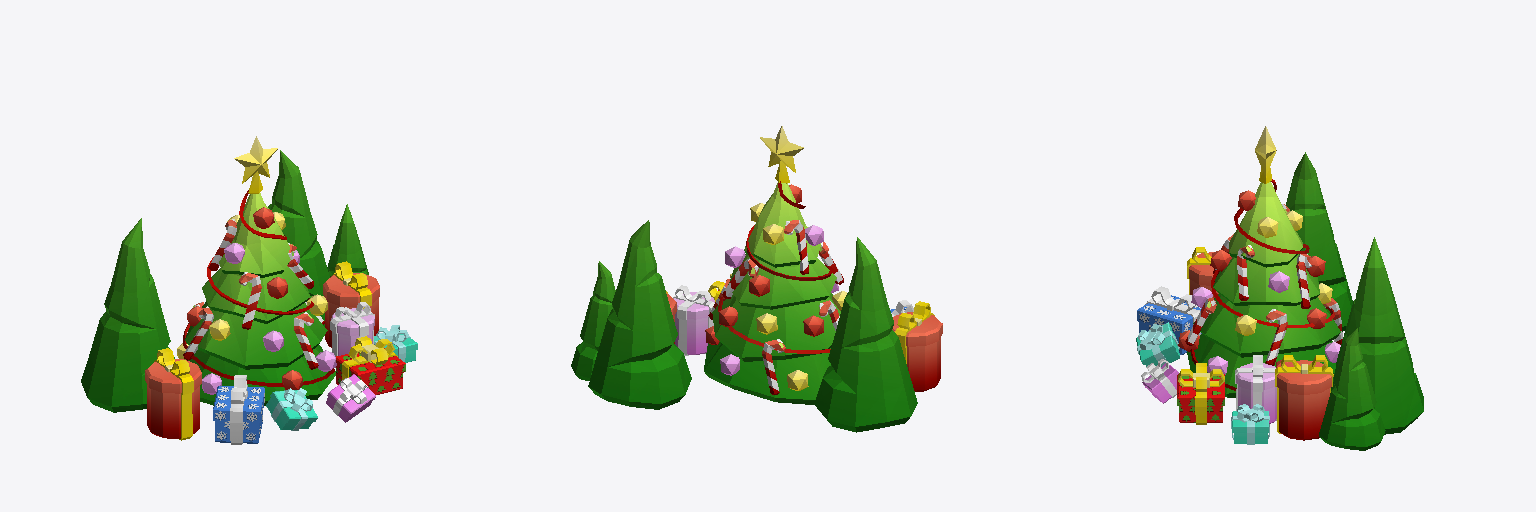
3 views of the same model, side by side, from view 1: azimuth 30°, elevation 25°; view 2: azimuth 150°, elevation 25°; view 3: azimuth 270°, elevation 25° (orthographic).
Parts seen in each view (by area): view 1: Christmas_Tree, Christmas_Tree_060, Christmas_Present_01, Christmas_Tree_2, Christmas_Present_009, Christmas_Present_04, Christmas_Present_008, Christmas_Present_02, Christmas_Present_07, Christmas_Tree_059, Christmas_Present_05, Christmas_Present_06 (+3 smaller); view 2: Christmas_Tree, Christmas_Tree_060, Christmas_Tree_2, Christmas_Present_01, Christmas_Tree_059, Christmas_Present_02, Christmas_Tree_Candy007, Christmas_Tree_Candy004; view 3: Christmas_Tree, Christmas_Tree_2, Christmas_Tree_059, Christmas_Tree_060, Christmas_Present_008, Christmas_Present_04, Christmas_Present_009, Christmas_Present_02, Christmas_Present_07, Christmas_Present_06, Christmas_Present_05, Christmas_Present_01 (+3 smaller).
Boxes of the visible parts, <box> form: Christmas_Tree: <box>183,136,335,405</box>; Christmas_Tree_060: <box>81,218,174,412</box>; Christmas_Present_01: <box>145,348,201,440</box>; Christmas_Tree_2: <box>268,150,329,326</box>; Christmas_Present_009: <box>213,375,264,444</box>; Christmas_Present_04: <box>336,336,405,394</box>; Christmas_Present_008: <box>323,261,379,347</box>; Christmas_Present_02: <box>330,302,374,367</box>; Christmas_Present_07: <box>266,388,317,430</box>; Christmas_Tree_059: <box>327,204,368,276</box>; Christmas_Present_05: <box>326,374,375,422</box>; Christmas_Present_06: <box>374,325,417,362</box>; Christmas_Tree: <box>704,126,840,404</box>; Christmas_Tree_060: <box>814,237,917,432</box>; Christmas_Tree_2: <box>588,220,691,409</box>; Christmas_Present_01: <box>892,301,942,391</box>; Christmas_Tree_059: <box>571,261,615,380</box>; Christmas_Present_02: <box>673,285,714,355</box>; Christmas_Tree_Candy007: <box>762,339,785,394</box>; Christmas_Tree_Candy004: <box>784,220,808,274</box>; Christmas_Tree: <box>1187,126,1340,397</box>; Christmas_Tree_2: <box>1331,237,1423,434</box>; Christmas_Tree_059: <box>1319,328,1385,450</box>; Christmas_Tree_060: <box>1286,152,1352,331</box>; Christmas_Present_008: <box>1275,355,1333,440</box>; Christmas_Present_04: <box>1177,363,1224,424</box>; Christmas_Present_009: <box>1137,286,1201,354</box>; Christmas_Present_02: <box>1235,355,1276,423</box>; Christmas_Present_07: <box>1136,322,1179,366</box>; Christmas_Present_06: <box>1231,404,1269,444</box>; Christmas_Present_05: <box>1141,359,1178,403</box>; Christmas_Present_01: <box>1187,247,1218,297</box>.
Size of the model in its own units: 466 by 364 by 373.
Materials: 1 (1 with a texture image).